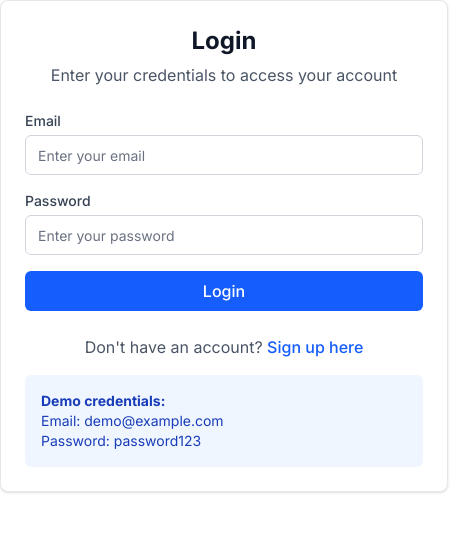
Scenario: LoginForm › shows validation errors for empty fields
Click the button "Login" at (224, 291), box [25,271,423,311]
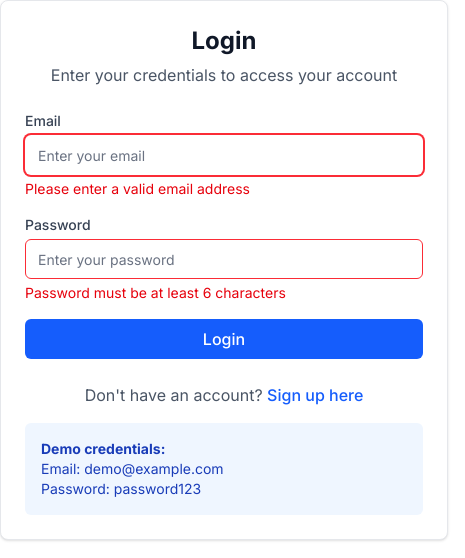
Expected: the text "Please enter a valid email address" is shown, [25,180,250,197]
Expected: the text "Password must be at least 6 characters" is shown, [25,284,286,301]
